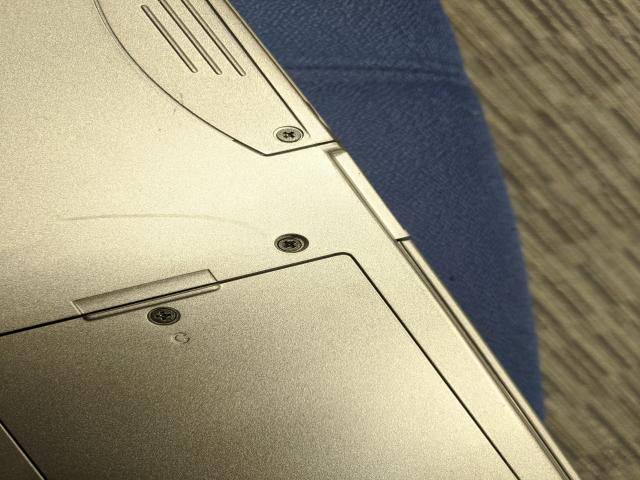CRS: (273, 127, 304, 143), (278, 237, 304, 253), (150, 308, 177, 323)
